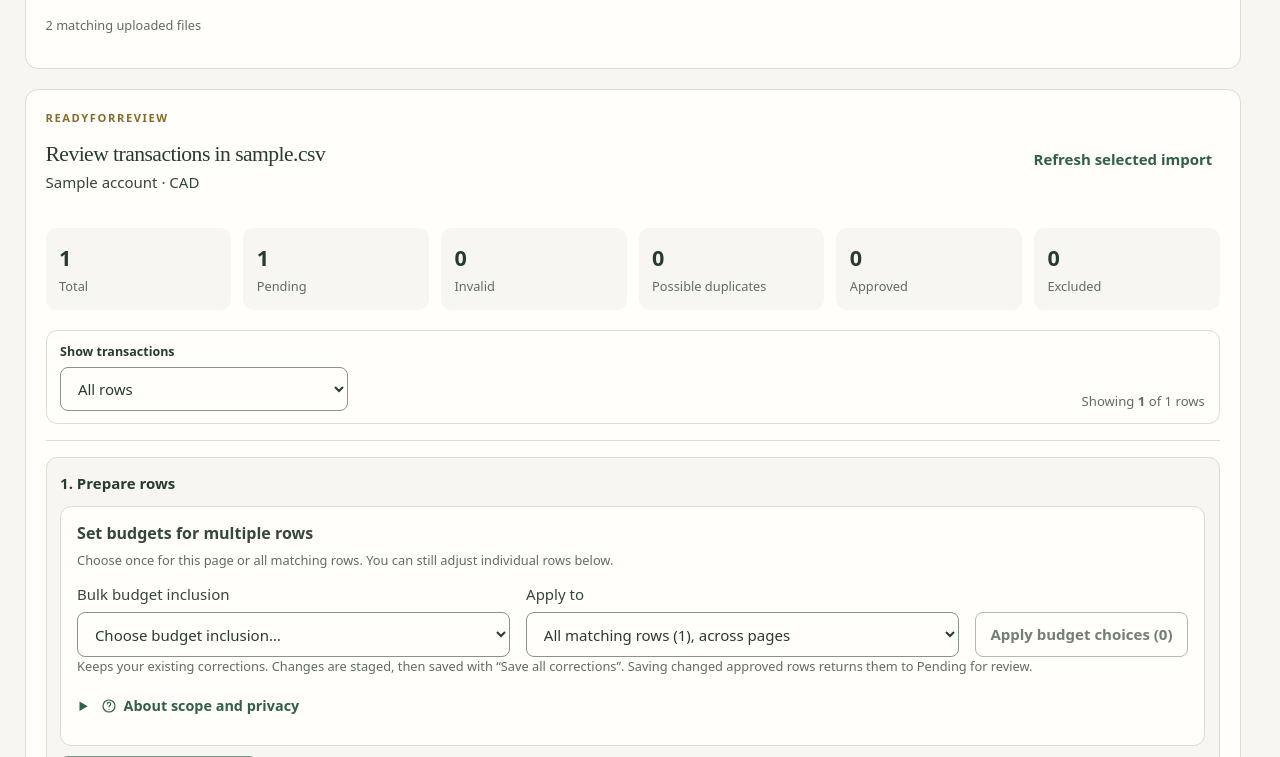
Test case: staged import edit protection › does not present an old empty filter as an empty new filter while its page is loading
(page scrolled)
Step 1. Select "Uncategorized" in the dropdown labelled "Show transactions" → (204, 389), box [60,366,348,411]
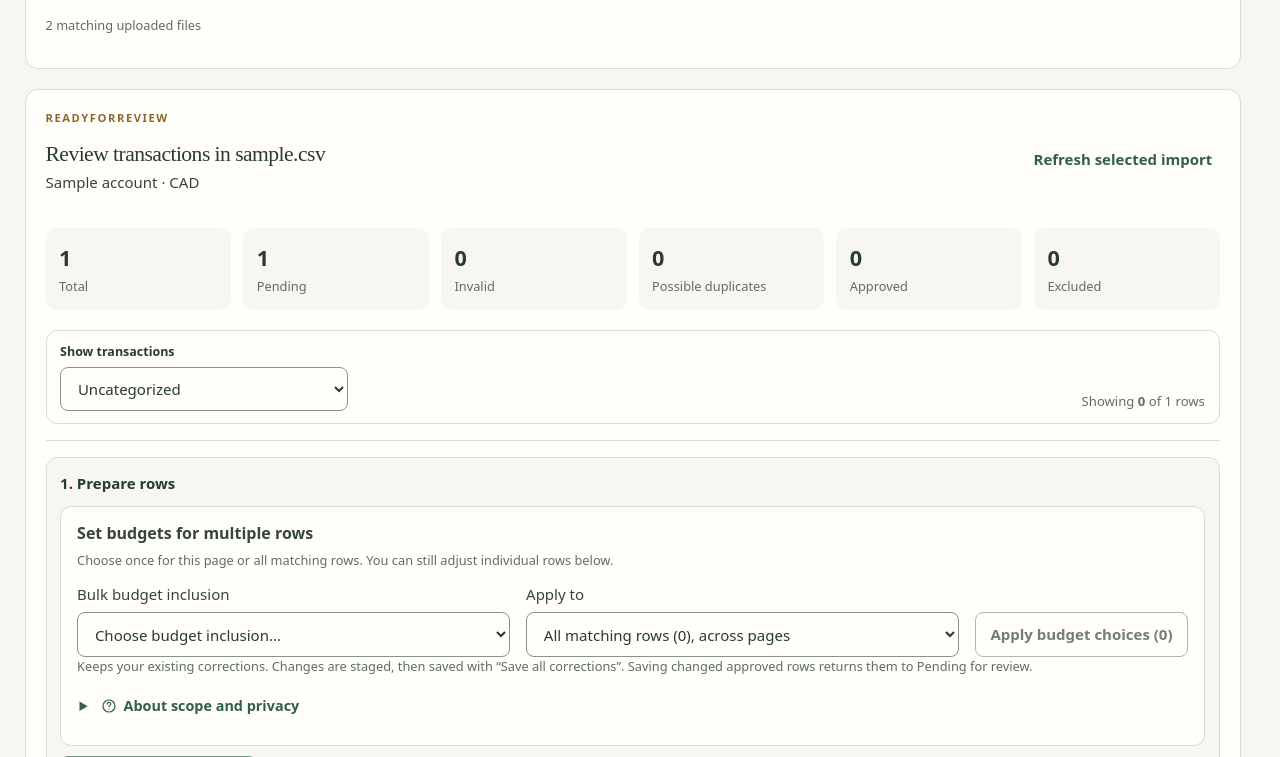
Step 2. Select "All rows" in the dropdown labelled "Show transactions" → (204, 389), box [60,366,348,411]
(page scrolled)
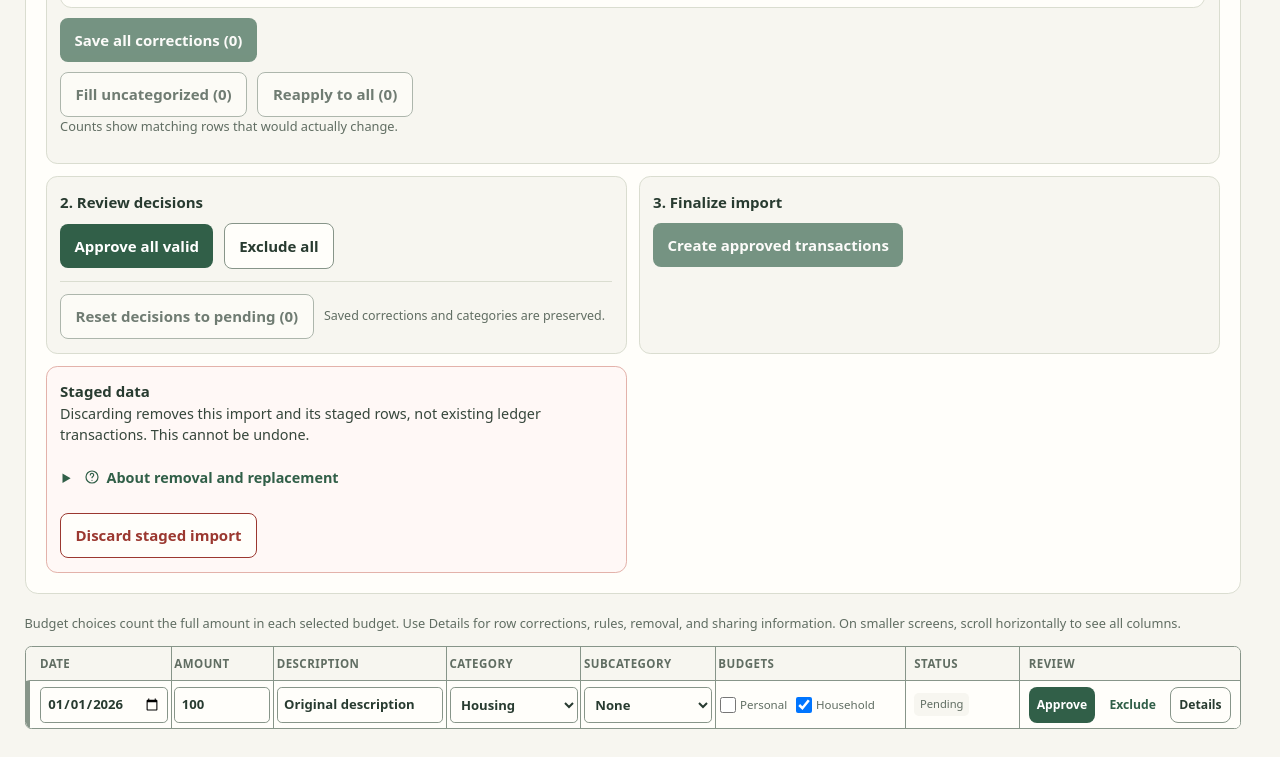
Expected: the field named "Description" is shown, [277,687,443,723]
